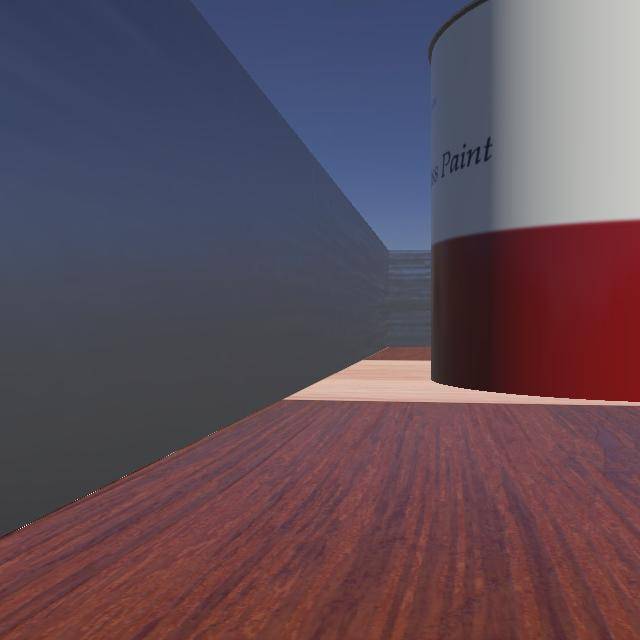paint-bucket: (403, 0, 639, 408)
